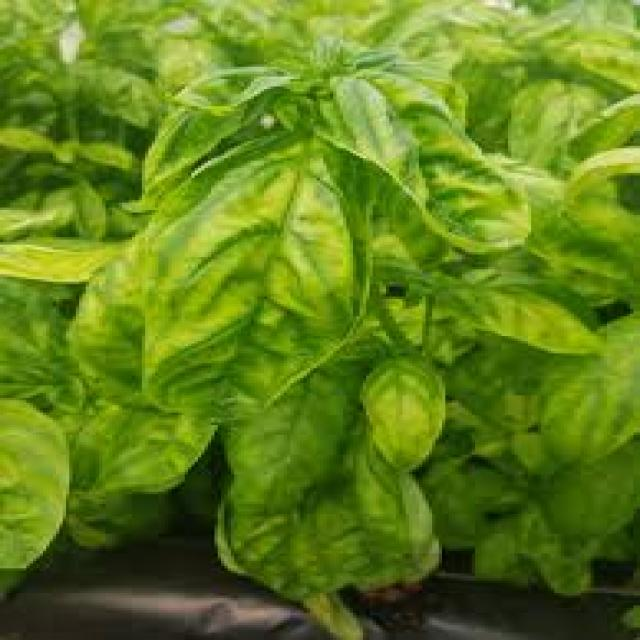virus_kuning: (134, 153, 372, 420)
